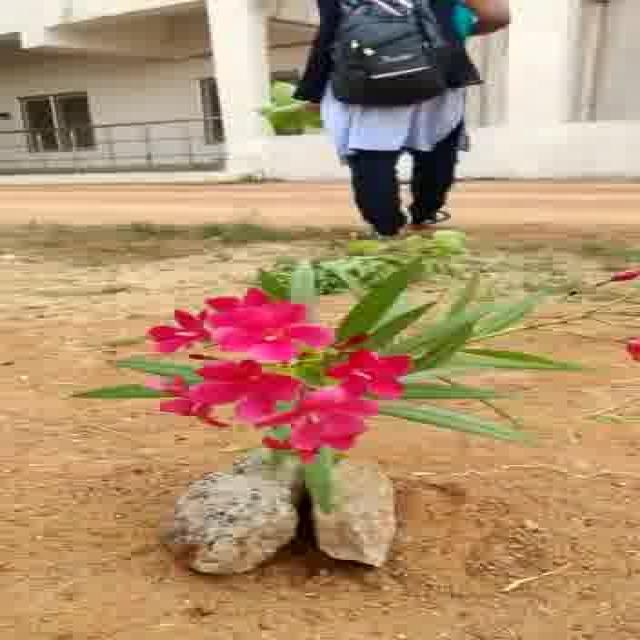Oleander: (82, 206, 551, 479)
